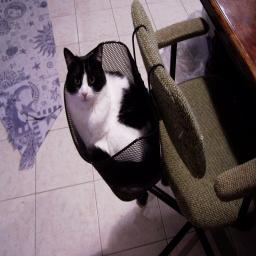catnose: (81, 90, 89, 98)
